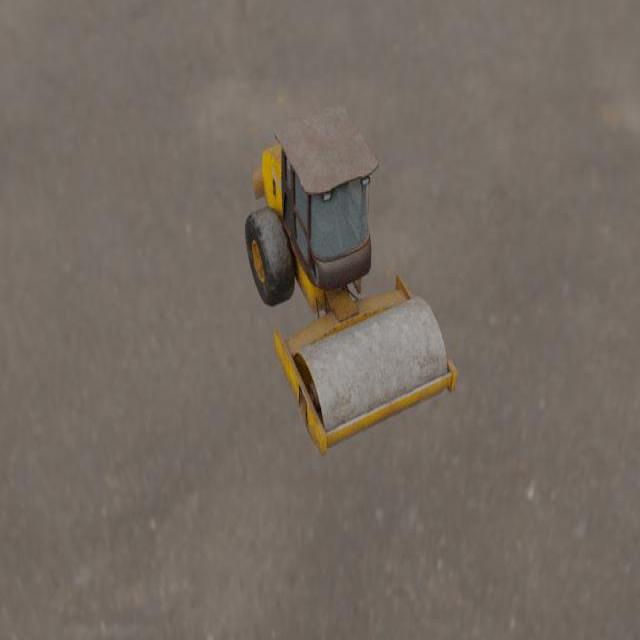Roller: (244, 103, 457, 456)
